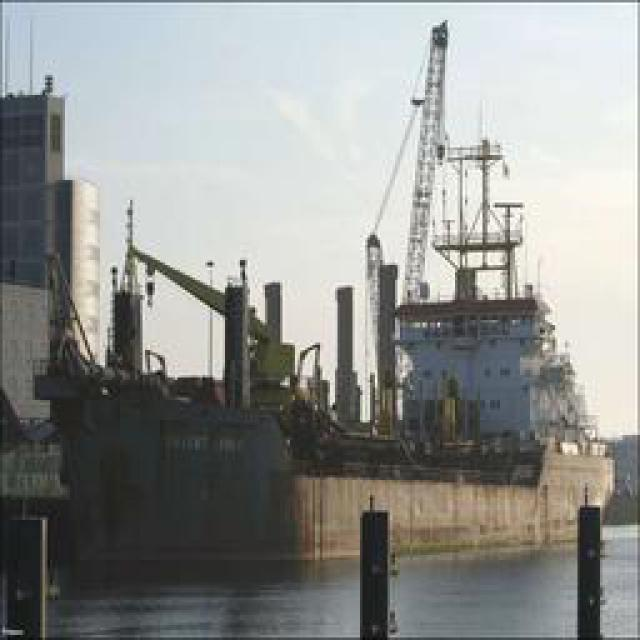Ship: (53, 273, 629, 562)
